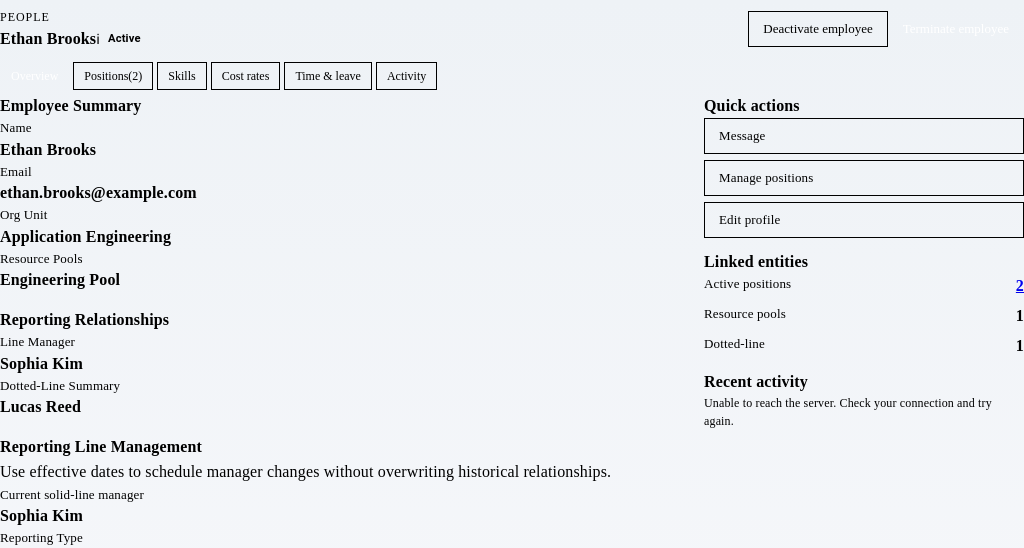
Scenario: EmployeeDetailsPage › deactivates an employee
Expected: the heading "Ethan Brooks" is shown, [0, 29, 96, 49]
Click the button "Deactivate employee".
click(818, 29)  # box [748, 11, 888, 47]
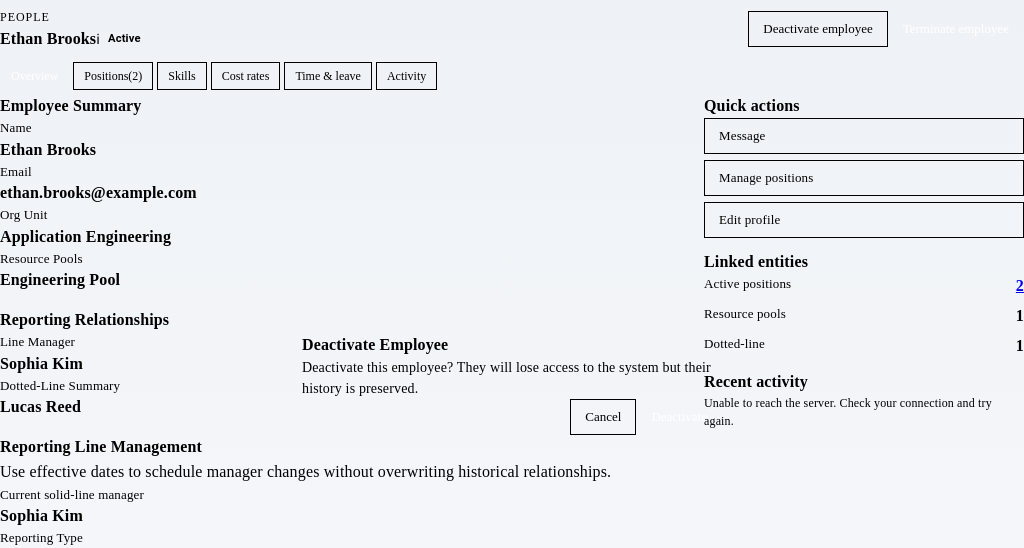
Result: the heading "Deactivate Employee" is shown at [302, 336, 448, 353]
Click the button "Deactivate".
click(679, 417)  # box [636, 399, 722, 435]
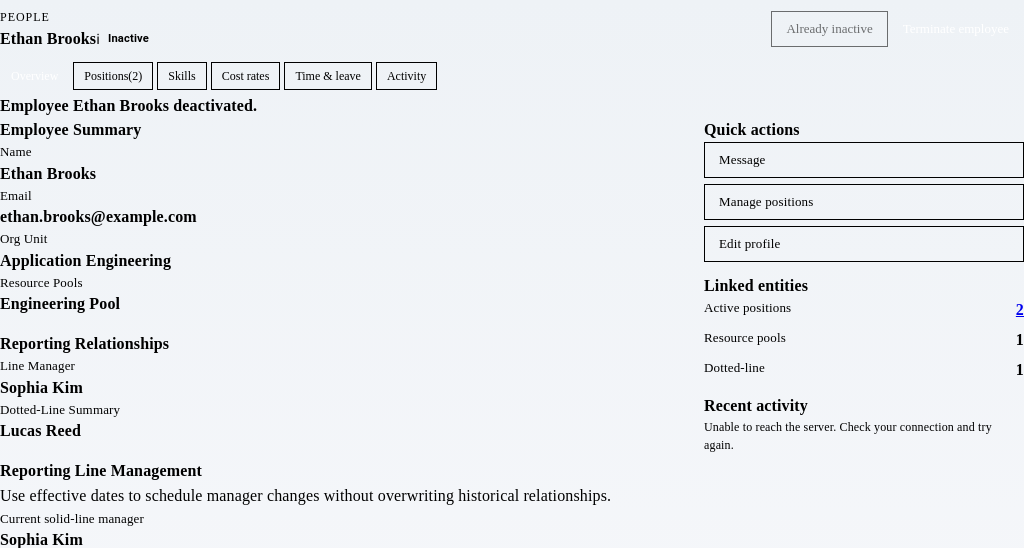
Result: the text "Employee Ethan Brooks deactivated." is shown at [0, 97, 257, 114]
Result: the text "Inactive" is shown at [108, 32, 149, 45]
